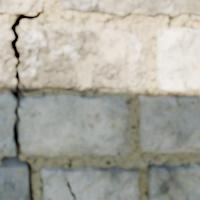brick: (139, 96, 199, 152), (41, 166, 138, 199), (156, 28, 199, 90), (60, 0, 199, 15), (147, 164, 199, 199), (0, 165, 28, 199), (0, 0, 45, 13)
broken_brick: (20, 27, 143, 93), (20, 94, 128, 157), (0, 91, 15, 156), (0, 28, 15, 90)
crack: (0, 1, 45, 199), (66, 180, 76, 199)
